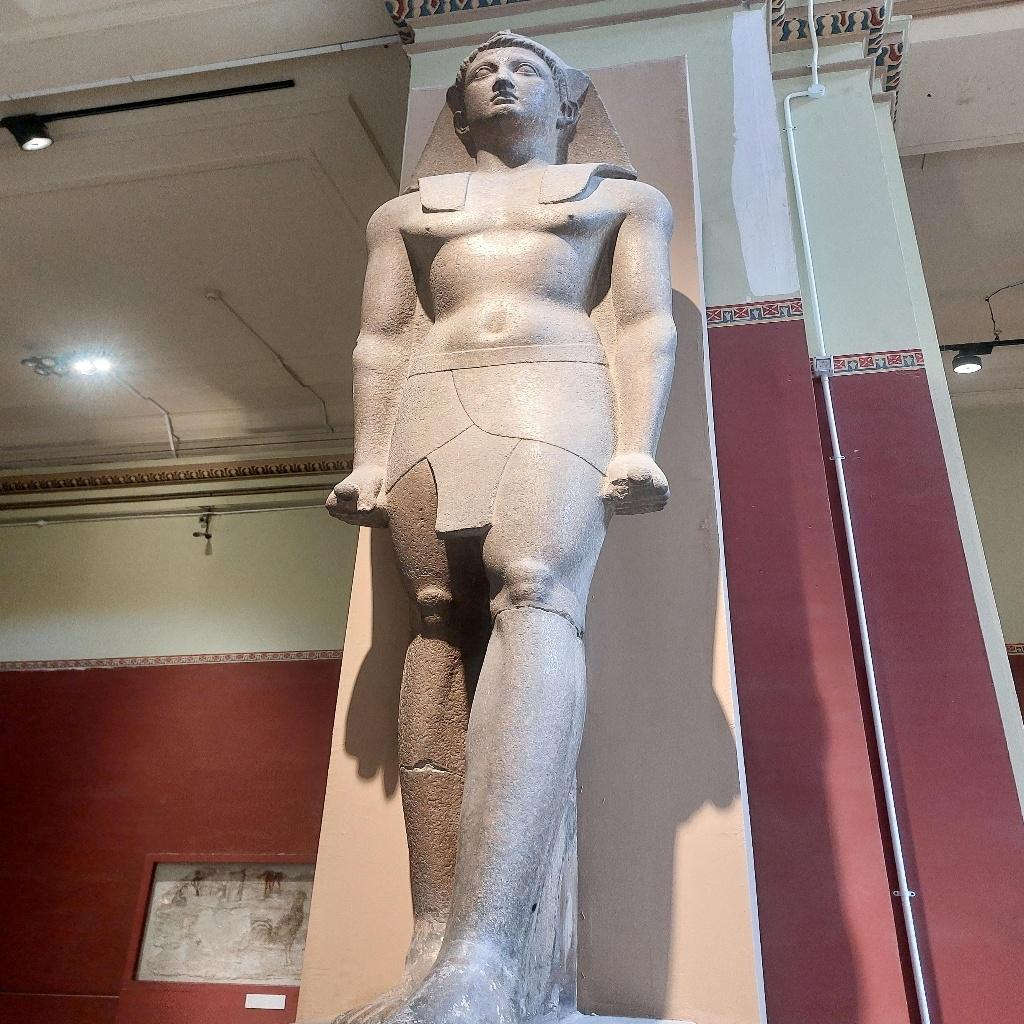Augustus: (314, 30, 680, 1022)
